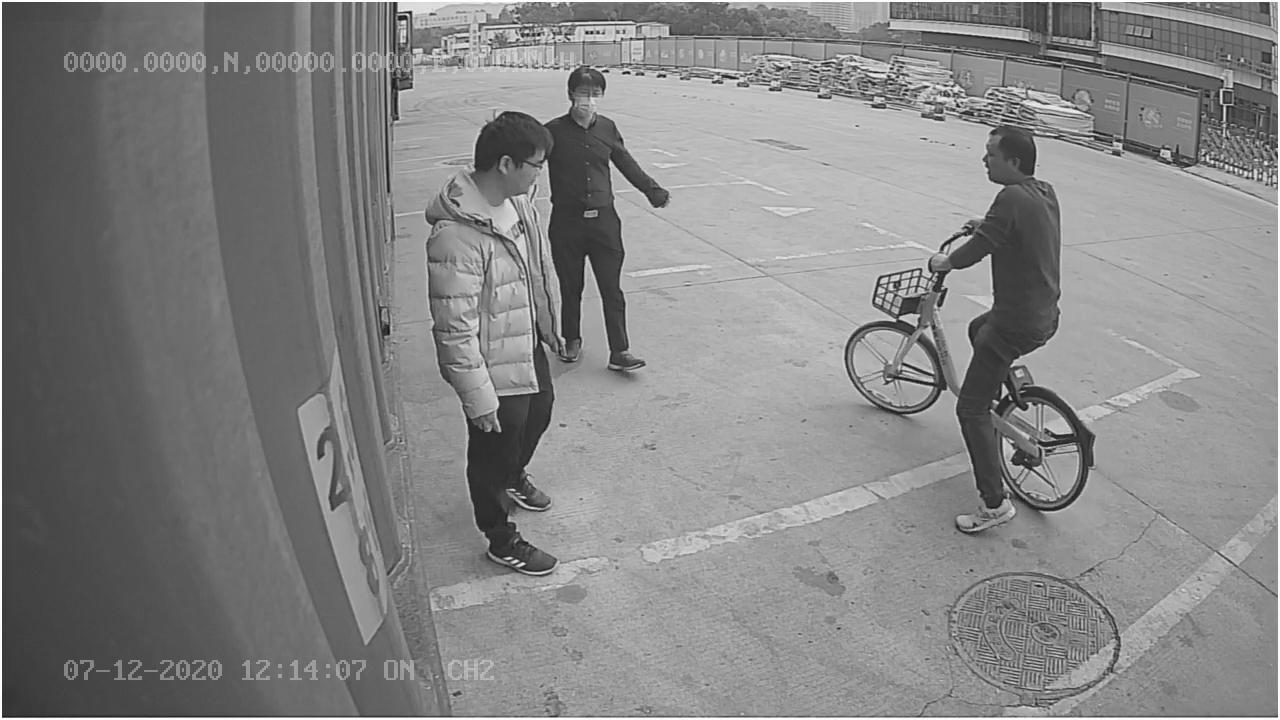person: (415, 109, 559, 577)
